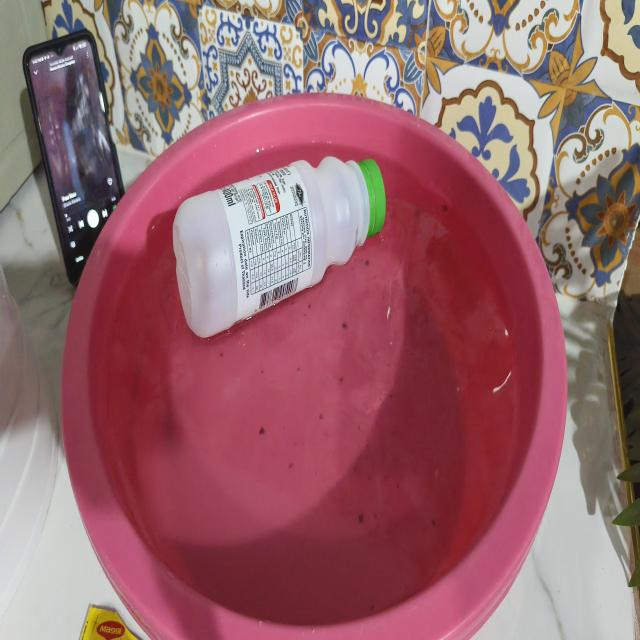Plastic Bottle: (173, 156, 386, 338)
